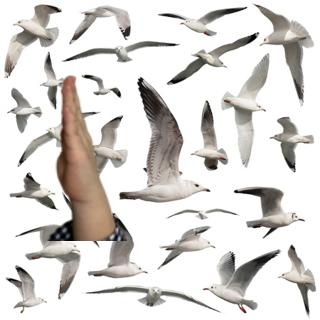RIGHT: (54, 74, 105, 204)
